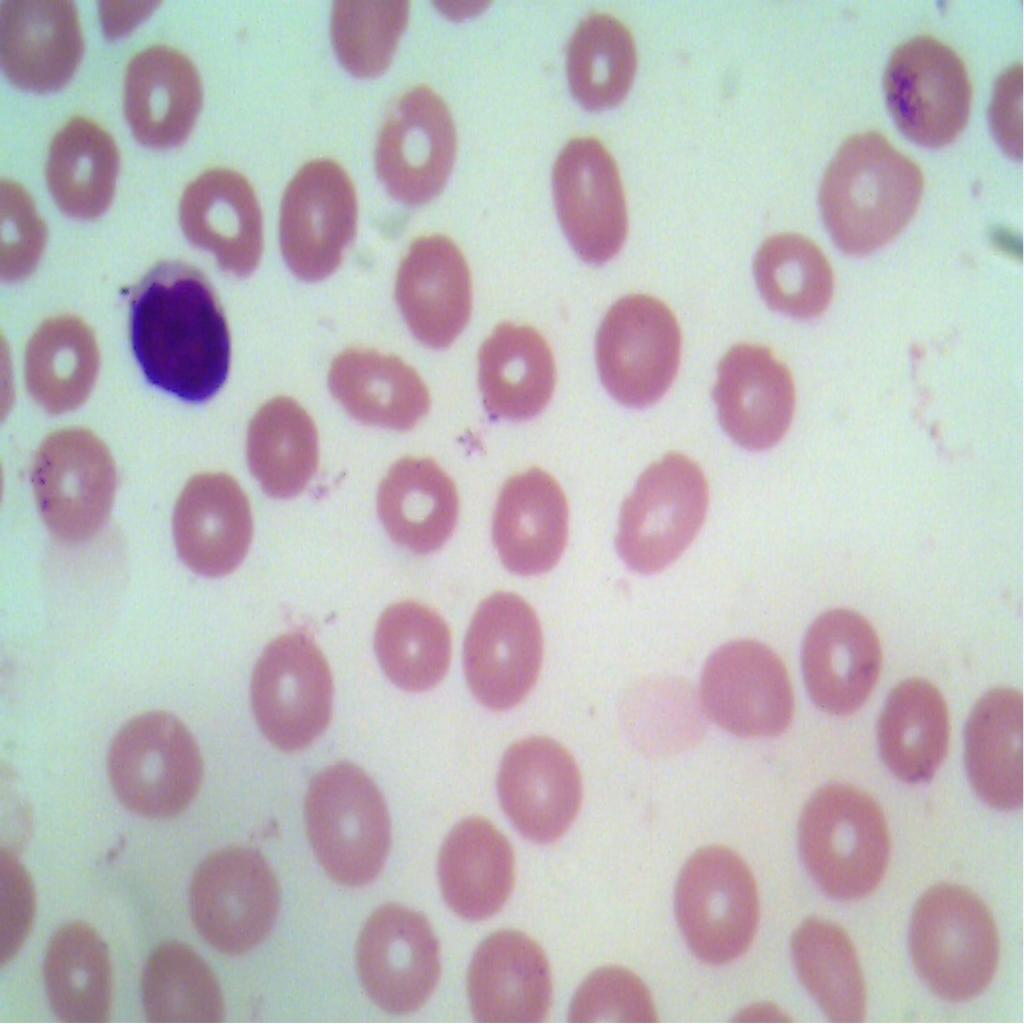Eritrosit: (478, 708, 595, 851), (666, 839, 778, 978), (813, 120, 928, 248), (586, 272, 684, 420), (369, 74, 466, 220), (92, 696, 206, 820), (456, 575, 548, 728), (302, 748, 395, 898), (341, 881, 438, 1022), (873, 32, 979, 161), (275, 148, 366, 296), (544, 136, 638, 275), (906, 876, 998, 1018), (243, 619, 338, 754), (170, 161, 269, 287), (688, 630, 795, 746), (794, 785, 896, 906), (386, 218, 474, 354), (113, 35, 211, 155), (618, 445, 708, 574), (798, 596, 884, 726), (33, 420, 123, 544), (326, 334, 433, 438), (373, 448, 463, 571), (784, 892, 868, 1023), (873, 657, 950, 798), (550, 2, 644, 117), (708, 334, 794, 457), (194, 842, 280, 965), (746, 222, 836, 337), (474, 315, 558, 438), (241, 392, 321, 518), (448, 927, 551, 1023), (492, 458, 570, 584), (171, 474, 258, 586), (39, 104, 123, 218), (363, 592, 451, 694), (964, 664, 1023, 815), (26, 304, 103, 417), (42, 903, 114, 1023), (0, 0, 88, 91), (442, 820, 520, 922), (139, 931, 219, 1023)
Limfosit: (118, 244, 235, 406)
